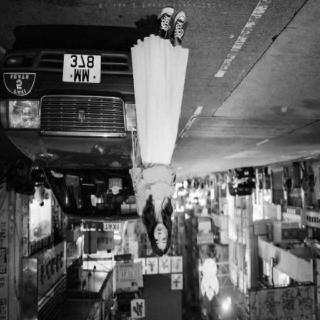other: (175, 177, 238, 219), (134, 166, 176, 206)
